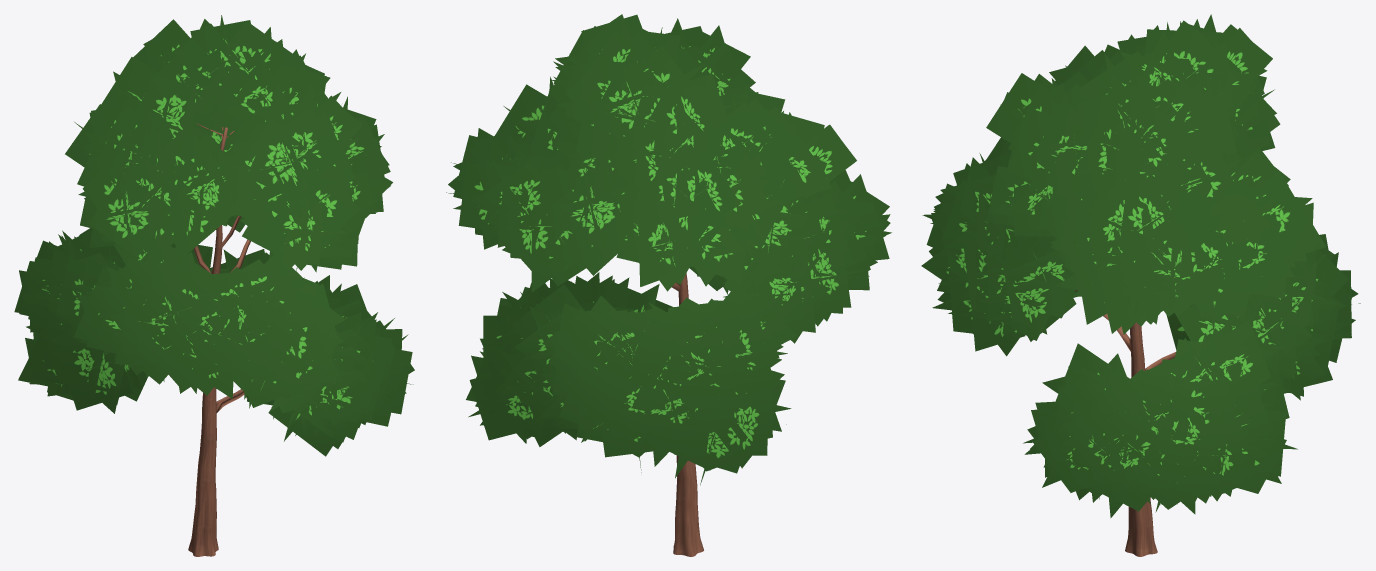
The model's file is Tree_04.glb.
3 views of the same model, side by side, from view 1: azimuth 30°, elevation 25°; view 2: azimuth 150°, elevation 25°; view 3: azimuth 270°, elevation 25° (orthographic). The views are drawn at different scales.
Visible parts, largest first — view 1: Tree_04; view 2: Tree_04; view 3: Tree_04.
Part boxes in pixels (bbox=[...]): Tree_04: bbox=[14, 15, 414, 556]; Tree_04: bbox=[446, 14, 891, 556]; Tree_04: bbox=[921, 14, 1360, 556].
Bounding box in the file's own units: 2.36 × 3.37 × 2.46.
2 materials, 2 textured.
